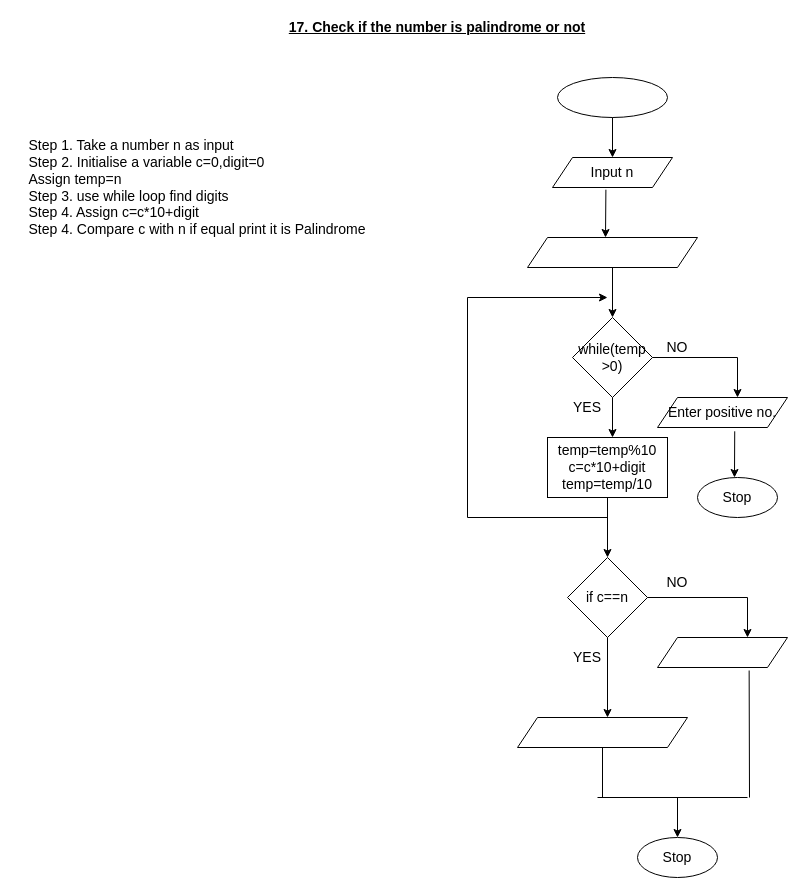
This 805x895 diagram has some shape labels left out. The centre of each missing label's shape, as x and y in pixels:
c=0,digit=0,temp=n: (612,252)
Number is not Palindrome: (722,652)
Number is Palindrome: (602,732)
Start: (612,97)
